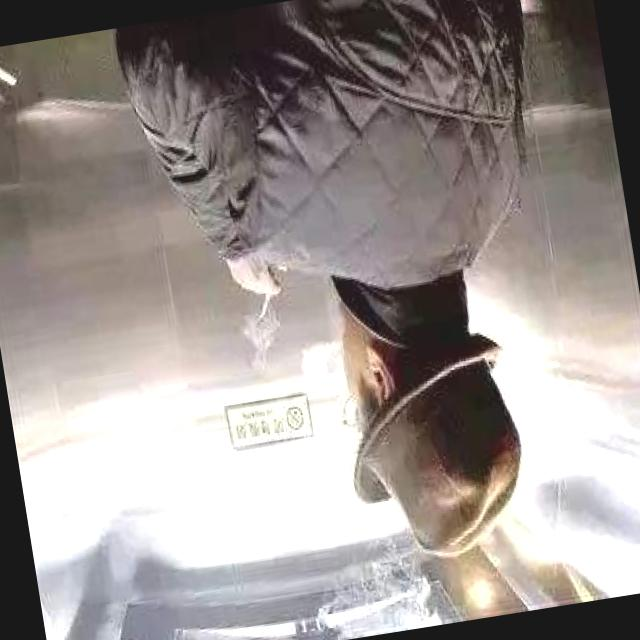cigarette: (246, 265, 284, 332)
